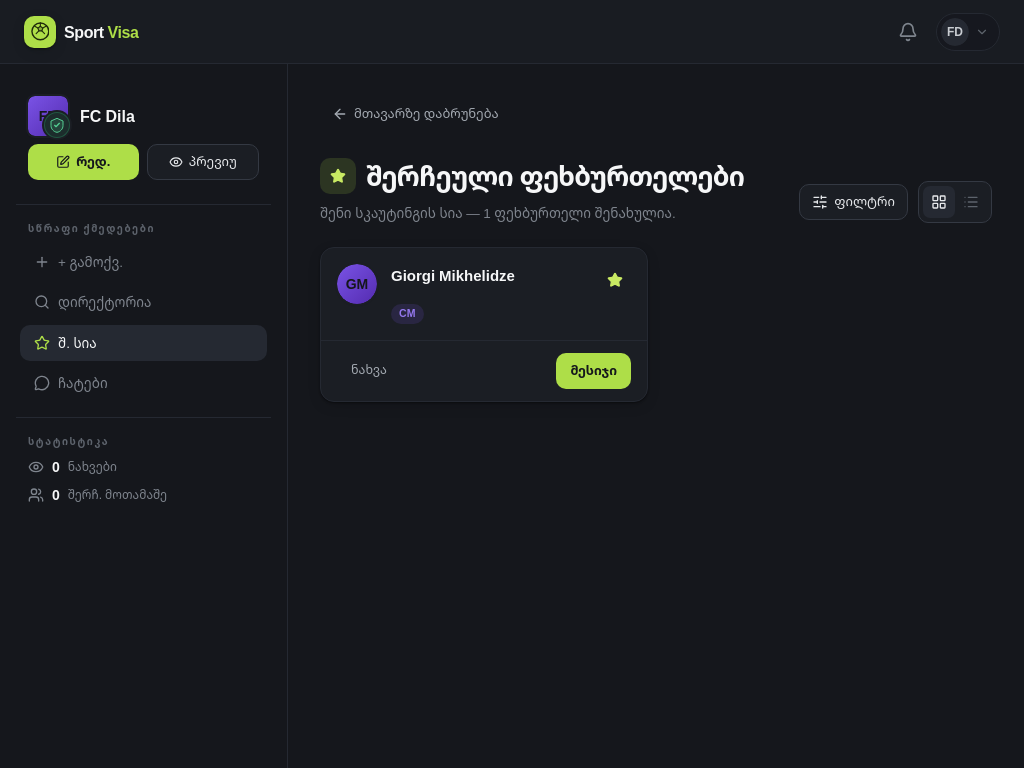
Scenario: ShortlistClient — remove interaction › shows error toast on removal failure
Click the button named "სიიდან ამოშლა". click: click(615, 280)
box: [599,264,631,296]
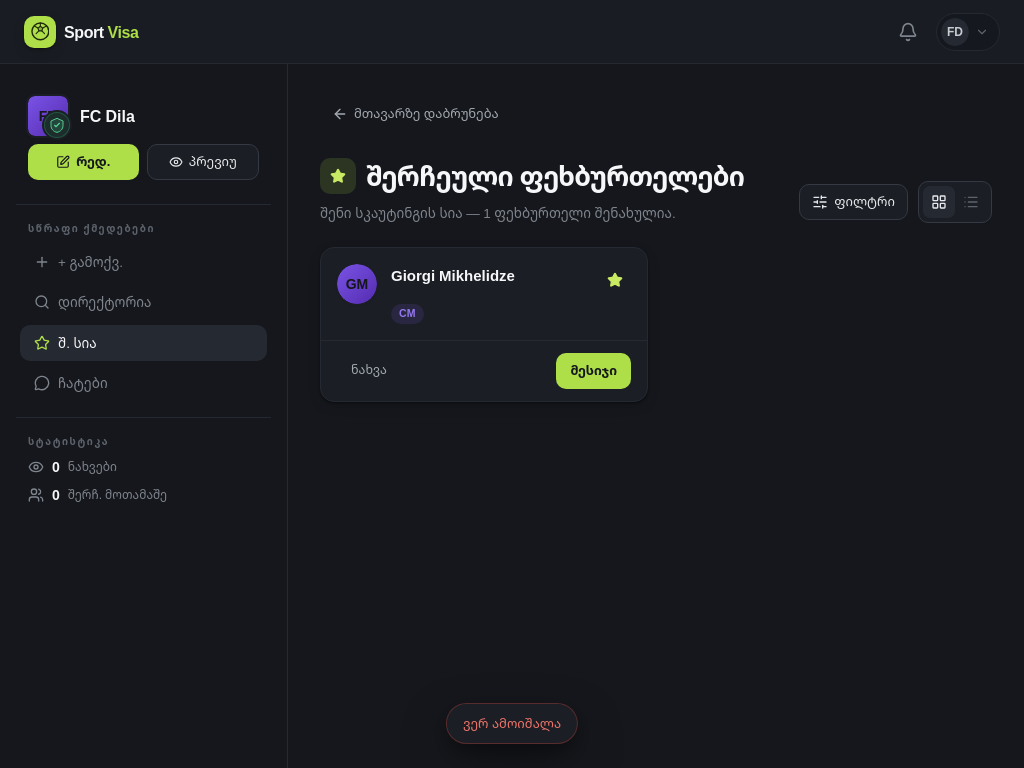
Check: the message reads "ვერ ამოიშალა", box [463,714,561,732]
